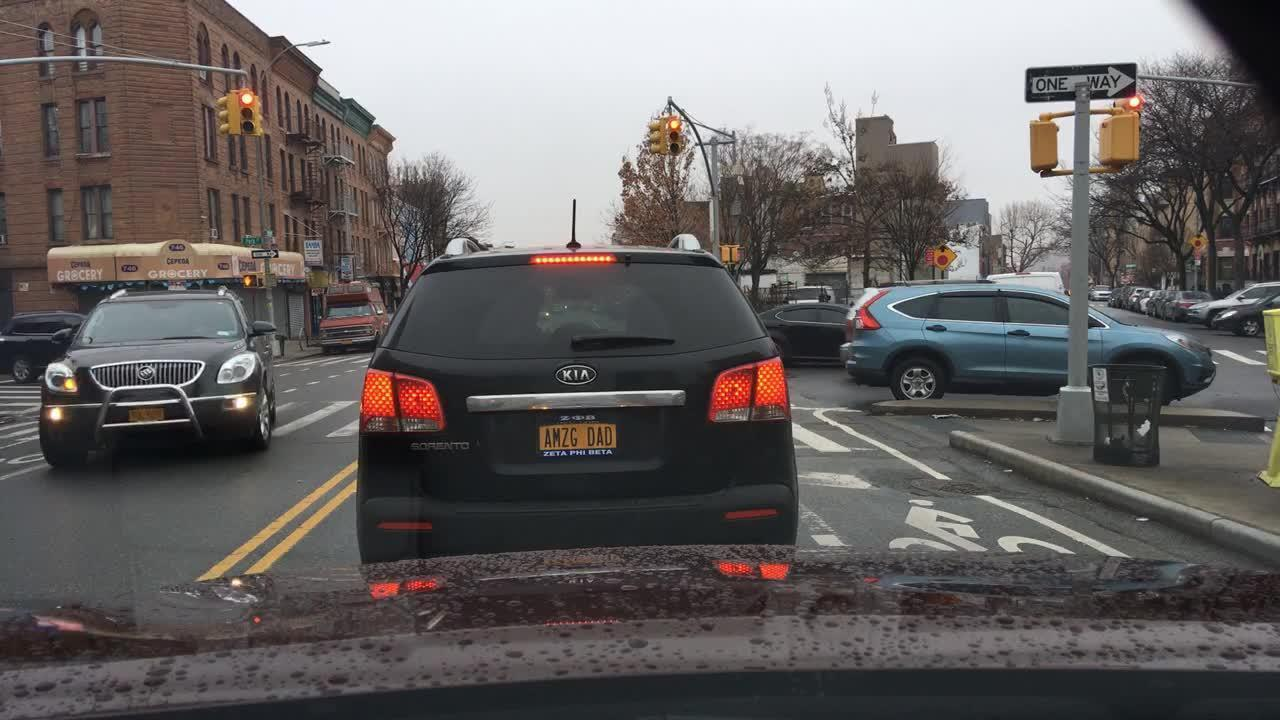kia: (551, 361, 598, 388)
